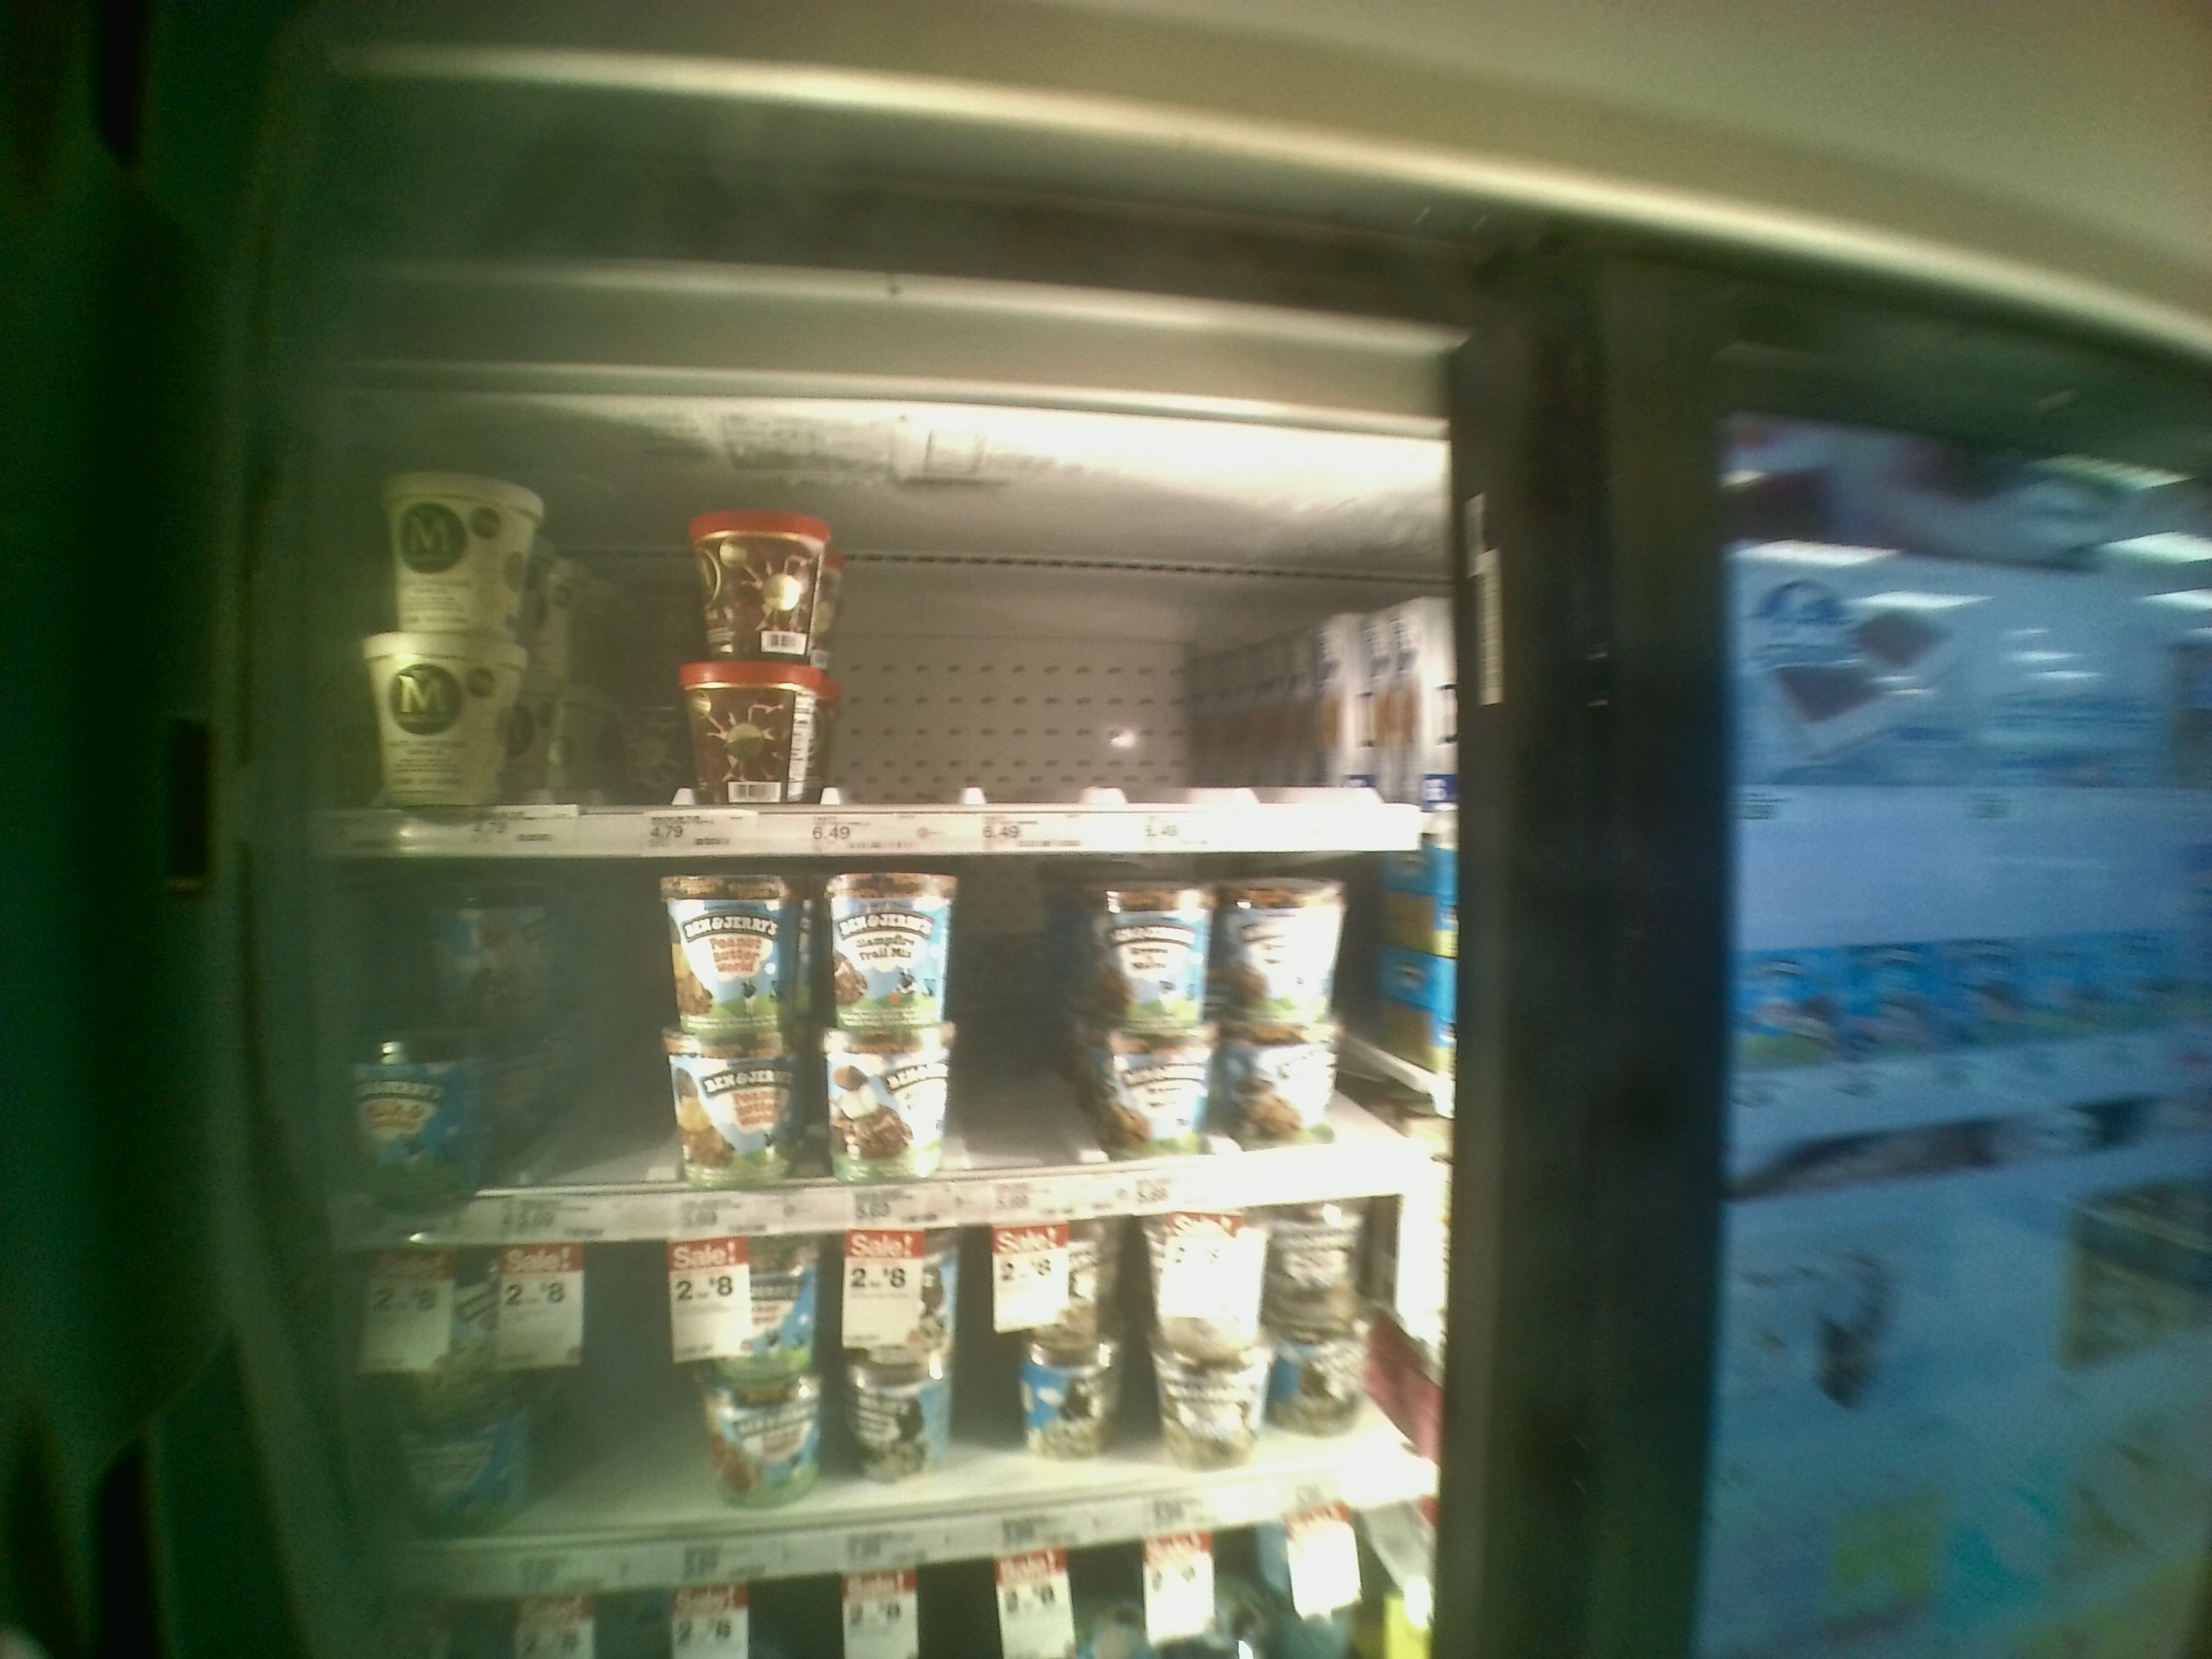shelf: (331, 401, 1446, 859), (326, 868, 1463, 1251)
